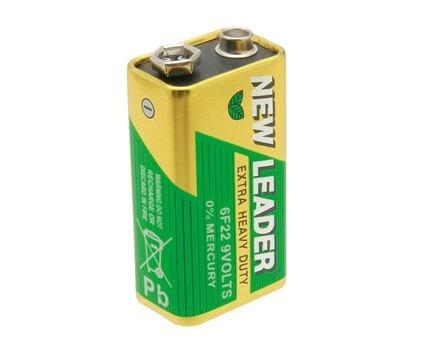9V Battery: (126, 28, 288, 328)
